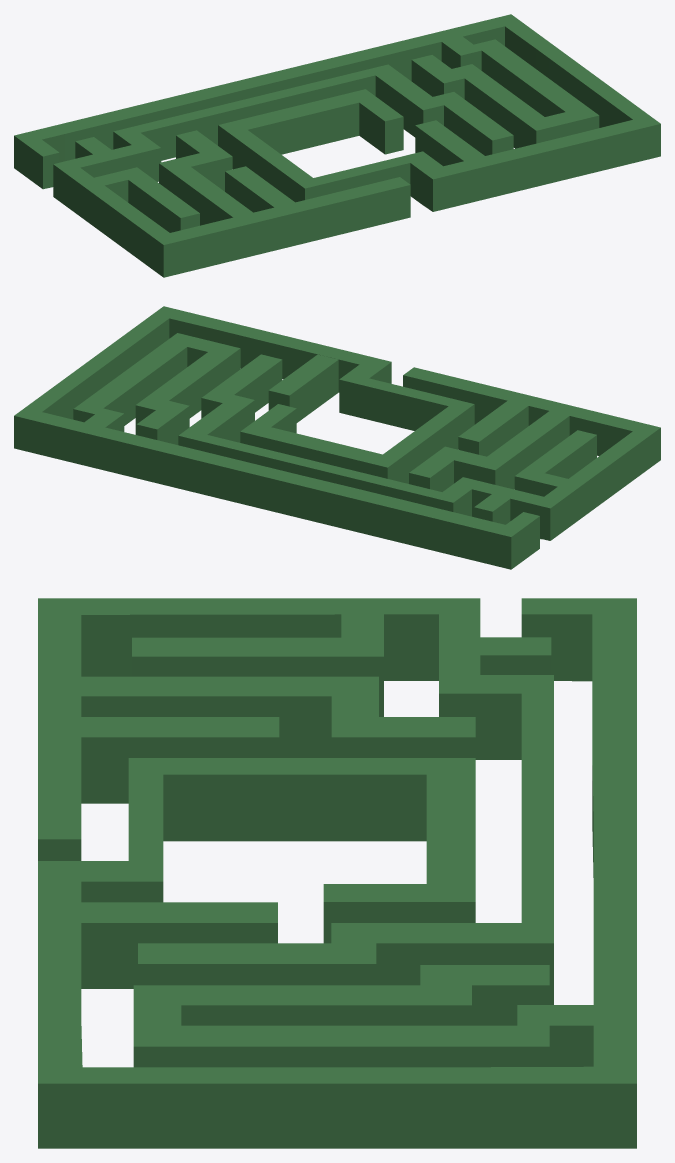
File: Maze.fbx
3 views of the same model, one above another, from view 1: azimuth 30°, elevation 25°; view 2: azimuth 150°, elevation 25°; view 3: azimuth 270°, elevation 25° (orthographic). The views are drawn at different scales.
Parts seen in each view (by area): view 1: Maze; view 2: Maze; view 3: Maze.
Boxes of the visible parts, box(x1,y1,x2,y2) form: Maze: box(14, 14, 660, 277); Maze: box(14, 306, 660, 569); Maze: box(38, 598, 636, 1148).
Bounding box in the file's own units: 39.31 × 2.51 × 20.5.
